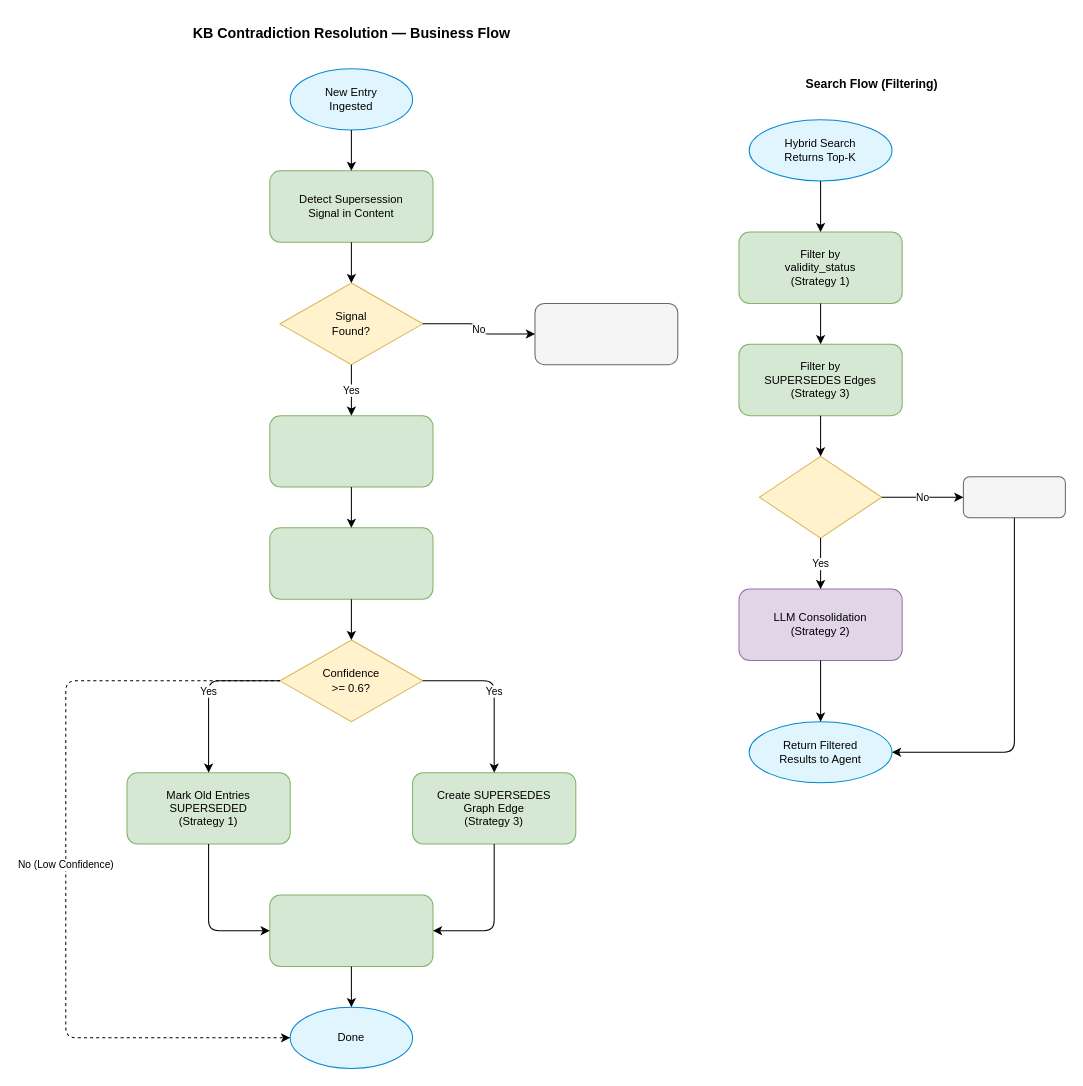
Some shapes in this 1083 by 1086 pixel diagram are drawn without their labels. Here are the shapes that lost their labels. From the top down, the centre of each, then its label:
the point at 606,333: No Action (Store Entry)
the point at 351,451: Find Conflicting Entries (Entity Overlap or FTS)
the point at 820,496: LLM Enabled?
the point at 1013,497: Skip LLM
the point at 351,563: Compute Confidence Score
the point at 351,930: Log Resolution to Audit Table
